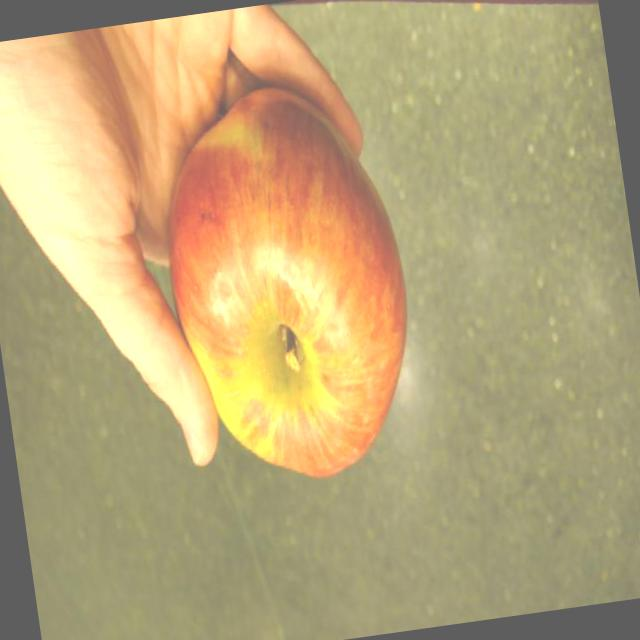Apple: (145, 71, 431, 498)
